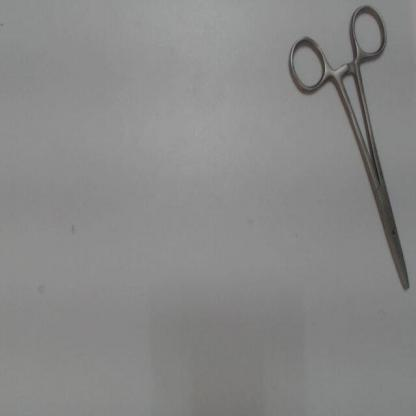Mayo Needle Holder: (281, 1, 414, 310)
